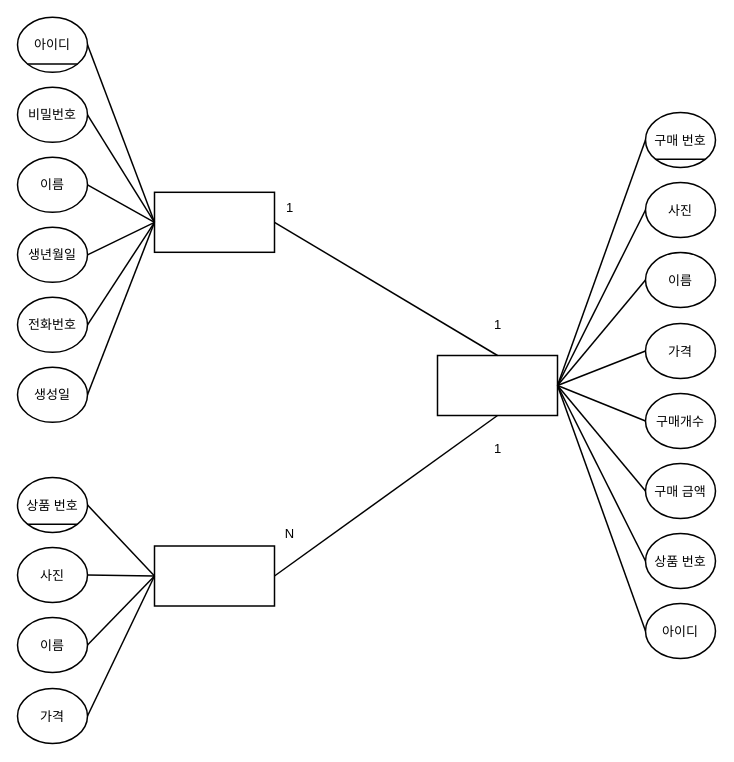
Some shapes in this 734 by 762 pixel diagram are drawn without their labels. The centre of each missing label's shape, as x and y in pixels:
고객: (214,222)
상품: (214,575)
장바구니: (497,385)
